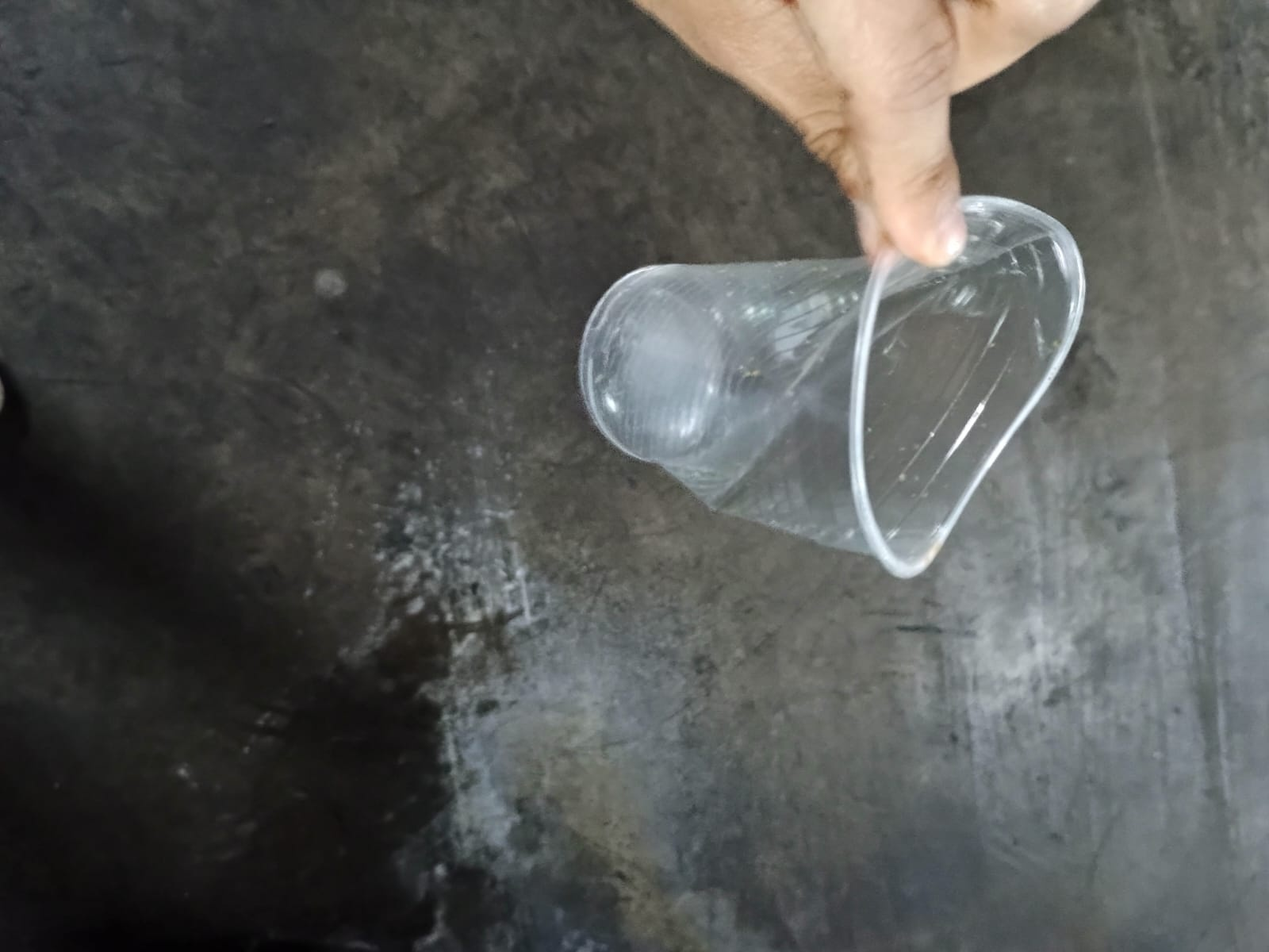Plastico: (581, 197, 1087, 578)
